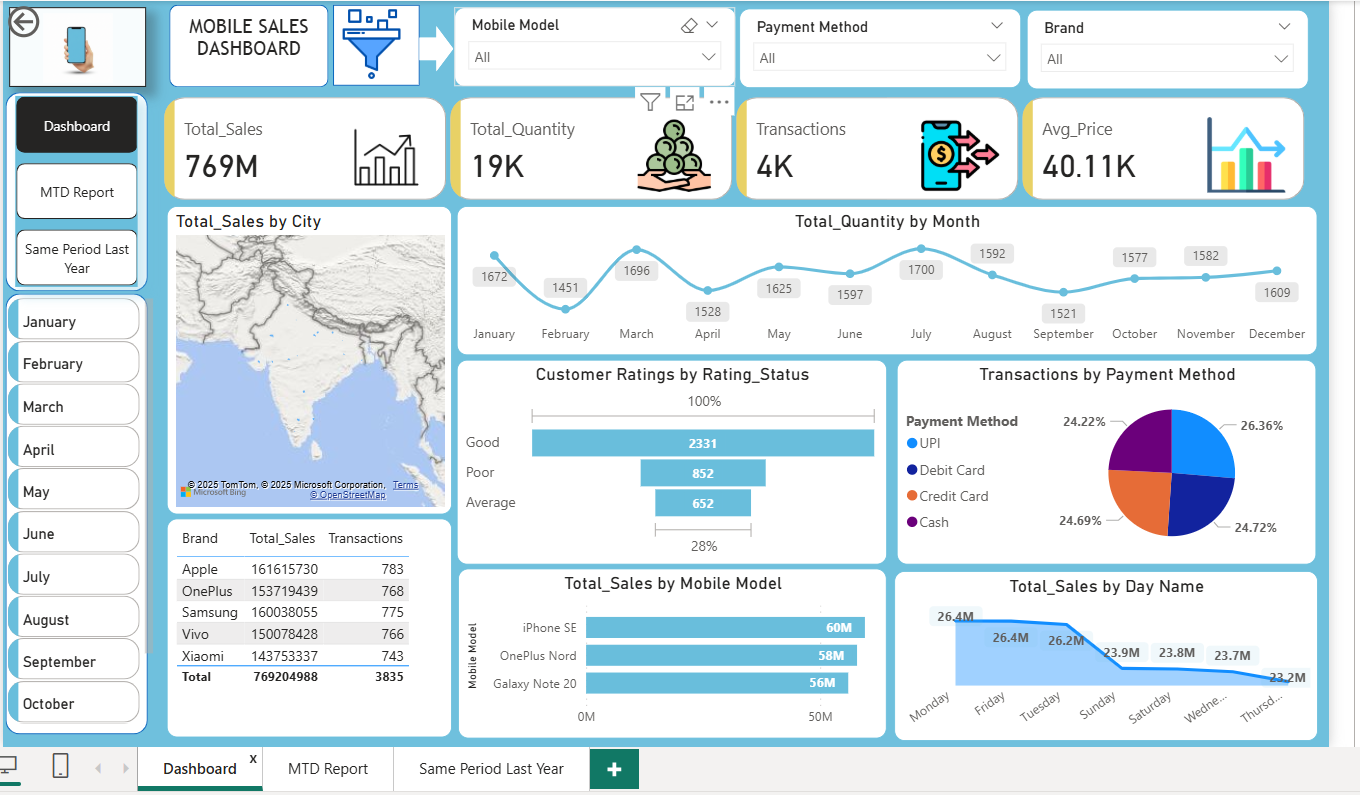

What the dashboard file says about the page in this screenshot:
{"tool":"powerbi","page":{"name":"Dashboard","canvas":[1280,720],"ordinal":0},"visuals":[{"type":"image","box":[5.5,5.5,131.7,76.8],"z":0},{"type":"shape","box":[2.7,87.8,137.2,192.1],"z":1000},{"type":"shape","box":[2.7,282.7,137.2,425.4],"z":2000},{"type":"advancedSlicerVisual","fields":{"Values":["Customer_Calender.Date.Variation.Date Hierarchy.Month"]},"box":[0,282.7,150.9,425.4],"z":3000},{"type":"cardVisual","fields":{"Data":["Sales_Data.Total_Sales","Sales_Data.Total_Quantity","Sales_Data.Total_Transactions","Sales_Data.Avg_Price"]},"box":[150.9,87.8,1111.5,109.8],"z":4000},{"type":"shape","box":[318.4,4.1,83.7,78.2],"z":5000},{"type":"slicer","fields":{"Values":["Sales_Data.Mobile Model"]},"box":[435,5.5,271.7,76.8],"z":6000},{"type":"slicer","fields":{"Values":["Sales_Data.Payment Method"]},"box":[710.8,6.9,271.7,76.8],"z":7000},{"type":"slicer","fields":{"Values":["Sales_Data.Brand"]},"box":[988,8.2,271.7,76.8],"z":8000},{"type":"image","box":[314.2,2.7,82.3,78.2],"z":9000},{"type":"shape","box":[402.1,24.7,32.9,43.9],"z":10000},{"type":"shape","box":[160.5,4.1,153.7,79.6],"z":11000},{"type":"textbox","box":[170.2,8.2,134.5,72.7],"z":12000},{"type":"filledMap","fields":{"Category":["Sales_Data.City"]},"box":[157.5,197.5,275,297.5],"z":13000},{"type":"actionButton","box":[0,0,100,40],"z":14000},{"type":"lineChart","fields":{"Category":["Customer_Calender.Date.Variation.Date Hierarchy.Month"],"Y":["Sales_Data.Total_Quantity"]},"box":[437.5,197.5,830,143.8],"z":15000},{"type":"funnel","title":"Customer Ratings by Rating_Status","fields":{"Y":["CountNonNull(Sales_Data.Customer Ratings)"],"Category":["Sales_Data.Rating_Status"]},"box":[437.5,346.2,415,197.5],"z":16000},{"type":"pieChart","title":"Transactions by Payment Method","fields":{"Category":["Sales_Data.Payment Method"],"Y":["Sales_Data.Total_Transactions"]},"box":[862.5,346.2,405,197.5],"z":17000},{"type":"barChart","title":"Total_Sales by Mobile Model","fields":{"Y":["Sales_Data.Total_Sales"],"Category":["Sales_Data.Mobile Model"]},"box":[438.8,547.5,413.8,163.8],"z":18000},{"type":"areaChart","title":"Total_Sales by Day Name","fields":{"Y":["Sales_Data.Total_Sales"],"Category":["Customer_Calender.Day Name"]},"box":[860,550,408.8,163.8],"z":19000},{"type":"tableEx","fields":{"Values":["Sales_Data.Brand","Sales_Data.Total_Sales","Sales_Data.Total_Transactions"]},"box":[157.5,498.8,275,211.2],"z":20000},{"type":"pageNavigator","box":[12.5,91.2,117.5,183.8],"z":20001}]}

Visuals, with their boxes in screenshot pixels (x1, y1, x2, y2):
image: l=6, t=2, r=144, b=83
shape: l=3, t=88, r=147, b=290
shape: l=3, t=293, r=147, b=738
advancedSlicerVisual - Customer_Calender.Date.Variation.Date Hierarchy.Month: l=0, t=293, r=158, b=738
cardVisual - Sales_Data.Total_Sales x Sales_Data.Total_Quantity: l=158, t=88, r=1323, b=204
shape: l=334, t=1, r=421, b=83
slicer - Sales_Data.Mobile Model: l=456, t=2, r=740, b=83
slicer - Sales_Data.Payment Method: l=745, t=4, r=1029, b=84
slicer - Sales_Data.Brand: l=1035, t=5, r=1320, b=86
image: l=329, t=0, r=415, b=81
shape: l=421, t=22, r=456, b=68
shape: l=168, t=1, r=329, b=84
textbox: l=178, t=5, r=319, b=81
filledMap - Sales_Data.City: l=165, t=203, r=453, b=515
actionButton: l=0, t=0, r=105, b=38
lineChart - Customer_Calender.Date.Variation.Date Hierarchy.Month x Sales_Data.Total_Quantity: l=458, t=203, r=1328, b=354
"Customer Ratings by Rating_Status" funnel: l=458, t=359, r=893, b=566
"Transactions by Payment Method" pieChart: l=904, t=359, r=1328, b=566
"Total_Sales by Mobile Model" barChart: l=460, t=570, r=893, b=742
"Total_Sales by Day Name" areaChart: l=901, t=573, r=1329, b=744
tableEx - Sales_Data.Brand x Sales_Data.Total_Sales: l=165, t=519, r=453, b=740
pageNavigator: l=13, t=92, r=136, b=285
